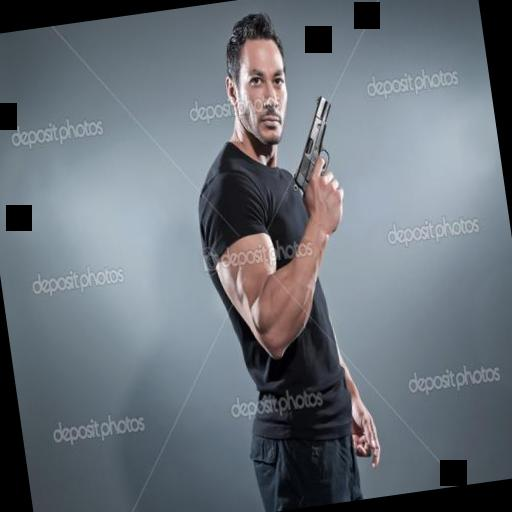Handgun: (278, 90, 356, 223)
